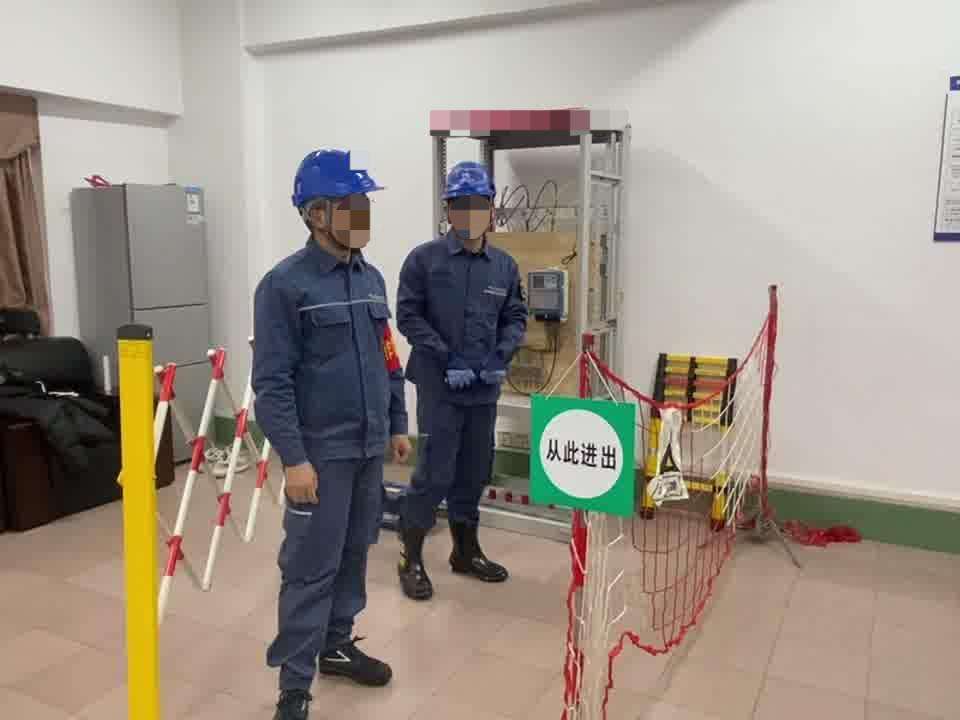halt: (292, 149, 386, 258), (443, 161, 501, 244)
inear: (302, 200, 343, 245)
